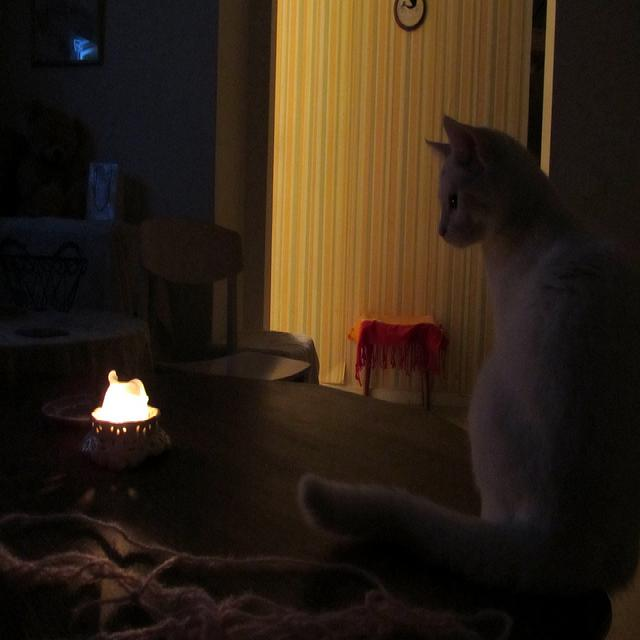Cat: (424, 99, 640, 640)
Table: (0, 416, 640, 640), (0, 161, 150, 339), (0, 317, 158, 420), (353, 291, 448, 414)
chair: (145, 202, 303, 401)
